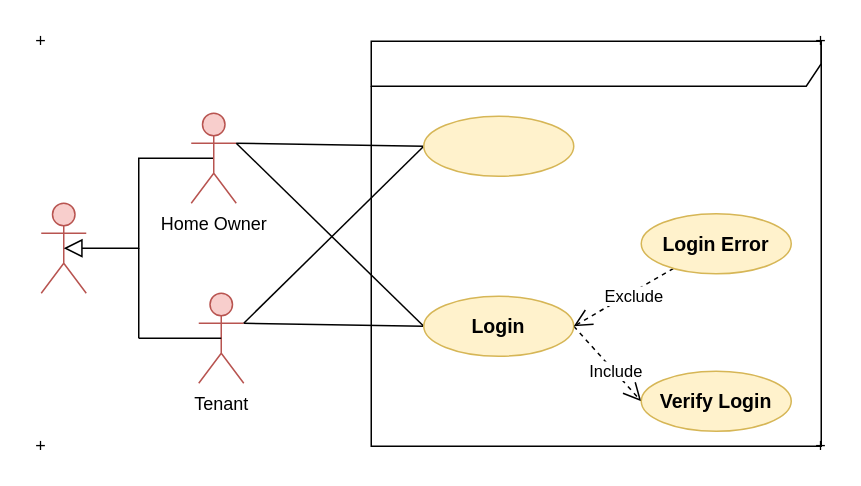
The diagram is 861 pixels wide and 486 high, and some of its shapes have lost their labels. Here are the shapes that lost their labels. From the top down, the box of each, then its label:
(422, 115, 574, 176): Register
(40, 202, 86, 293): User
(370, 40, 821, 446): Login & Registration Sub-System
